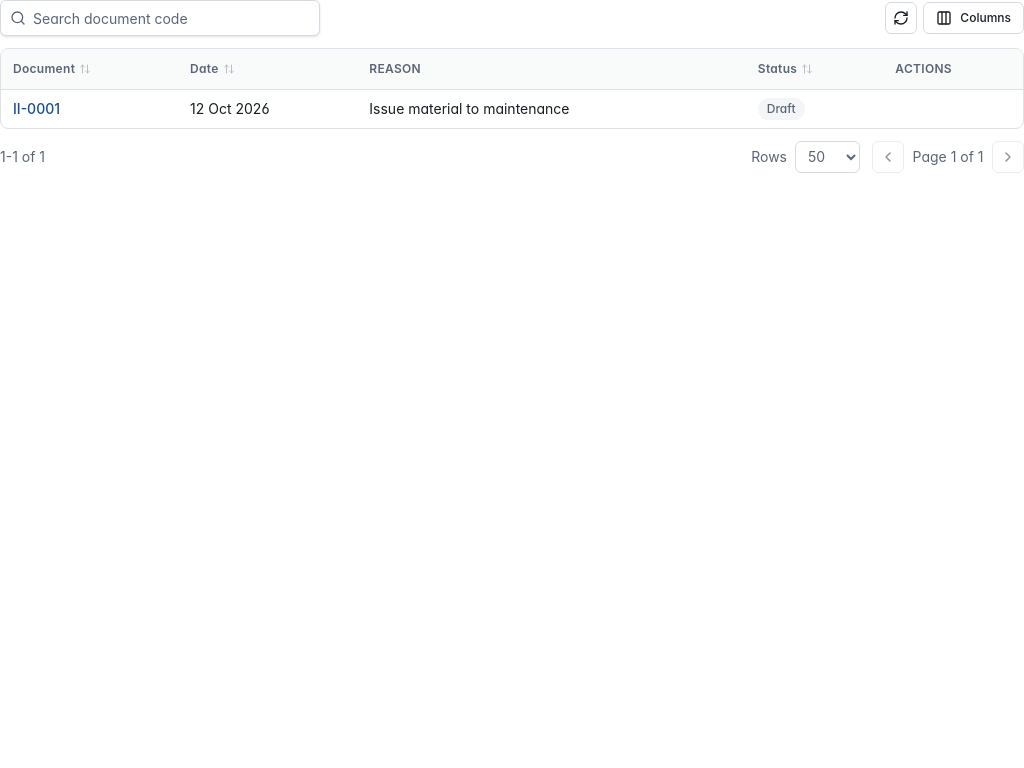
Test: inventory operation documents › opens the recorded quantities and bins before an issue is posted
Click the button "II-0001" at (36, 108), box [13, 98, 60, 118]
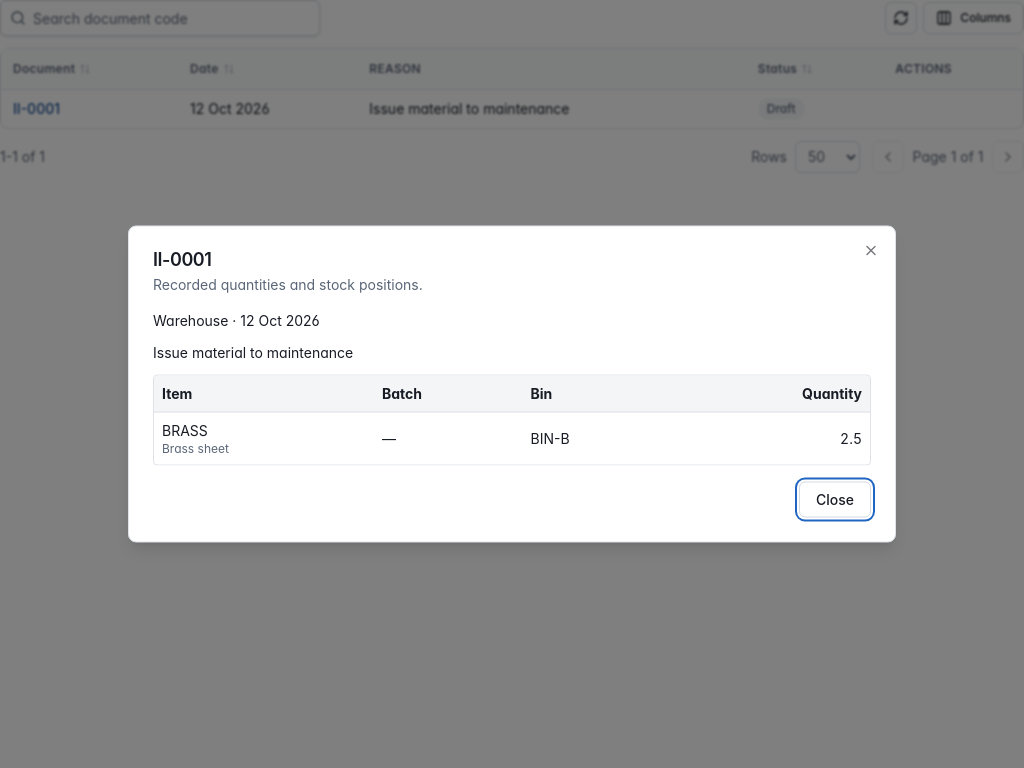
Expected: the text "BRASS" is shown, [162, 422, 208, 438]
Expected: the text "BIN-B" is shown, [522, 412, 669, 464]
Expected: the text "2.5" is shown, [669, 412, 870, 464]
